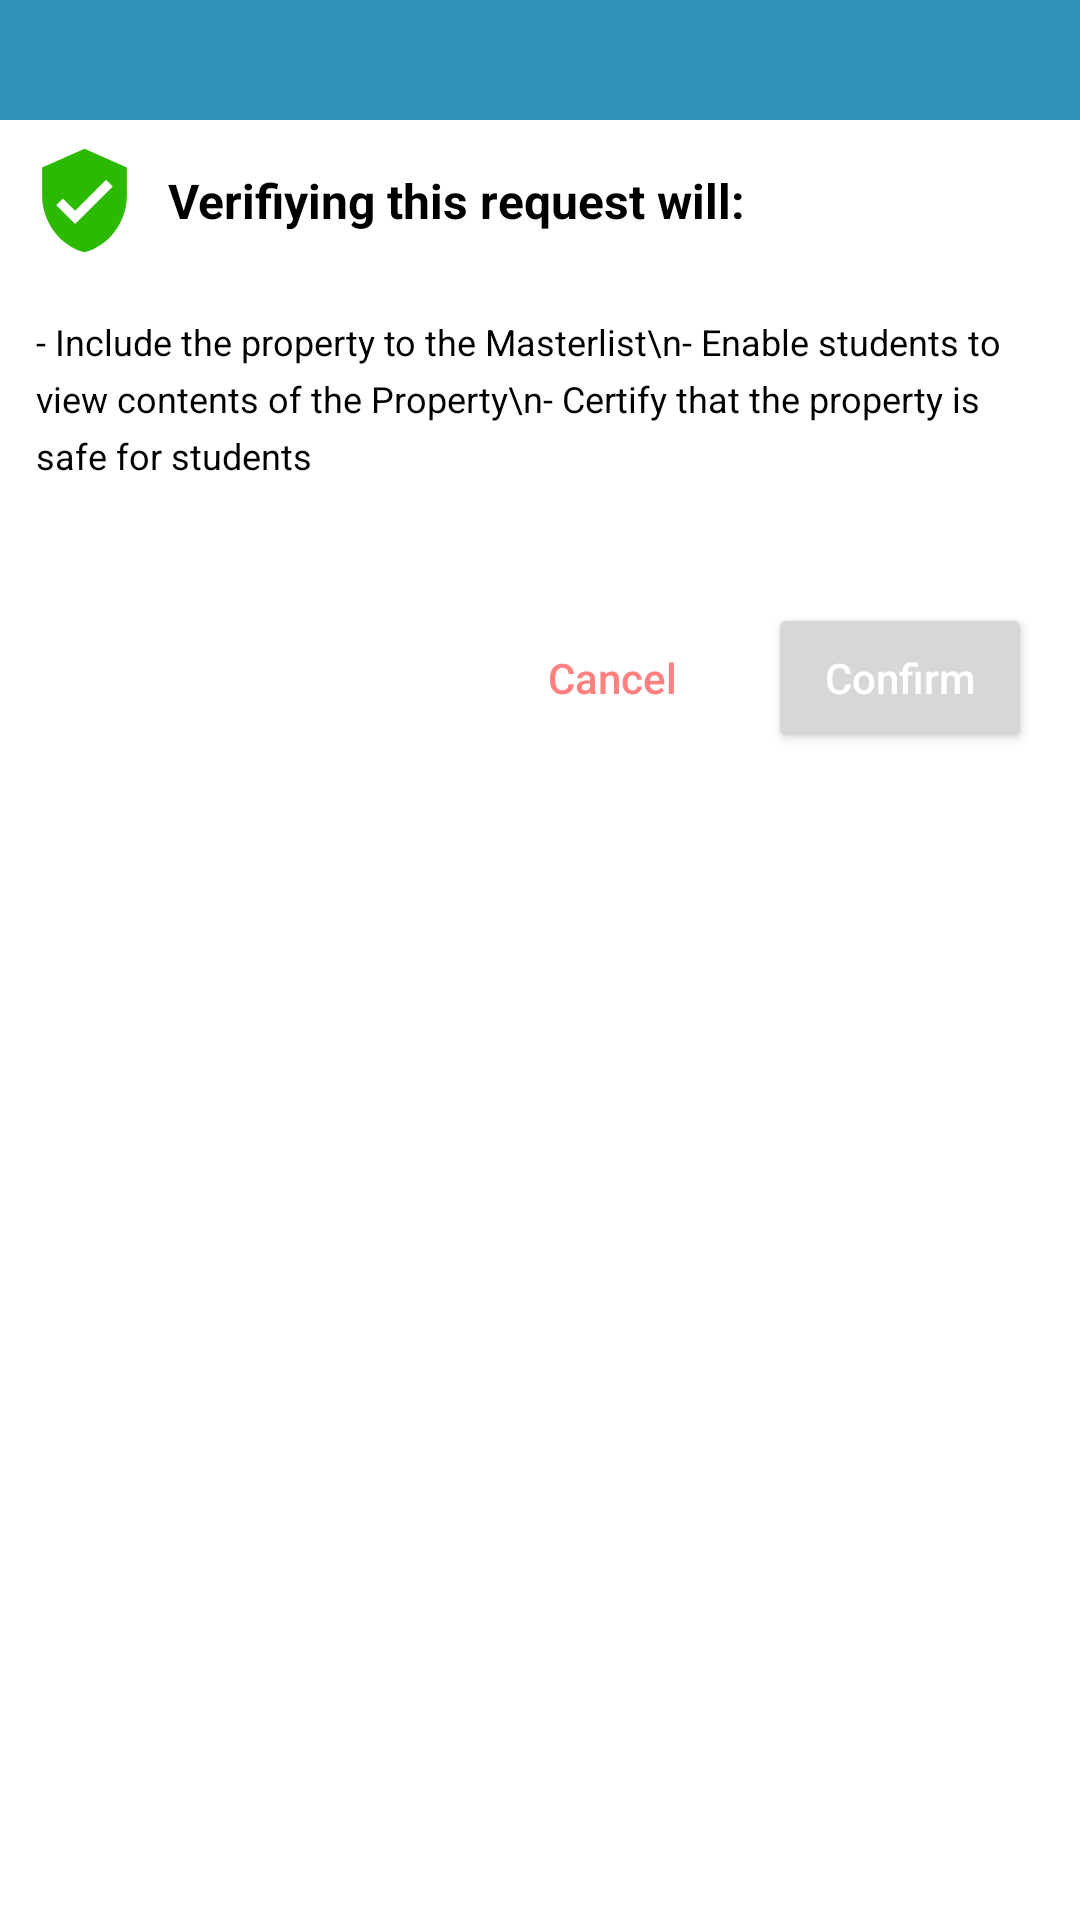

Locate icon controls on the screen. Image size 1080×1920, boxes as BBox(x1, y1, x2, y2).
verified: BBox(42, 148, 127, 253)
